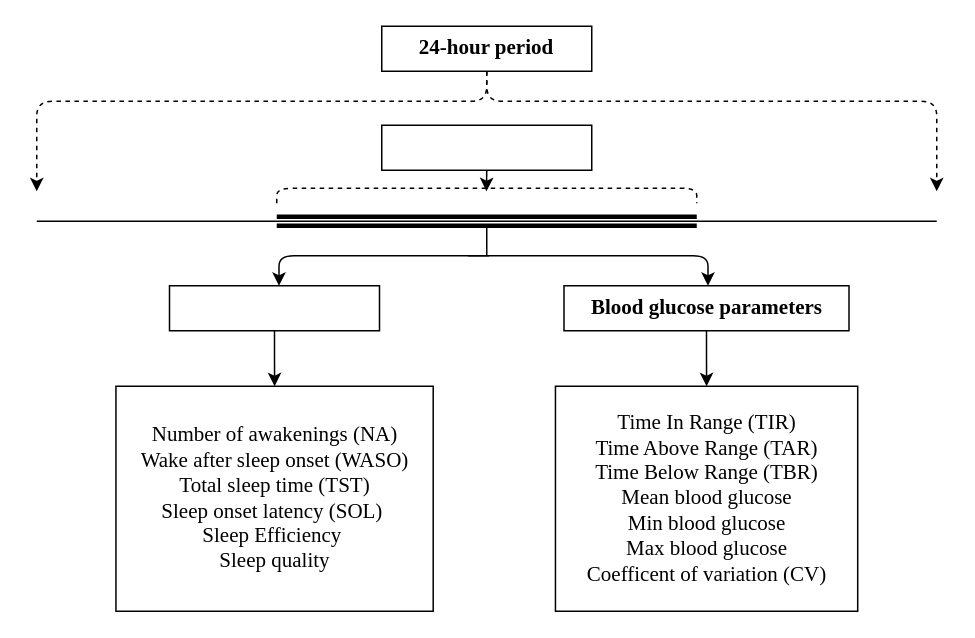
This 975x638 diagram has some shape labels left out. The box of each missing label's shape, as (x1, y1, x2, y2) in pixels:
Sleep parameters: (168, 284, 380, 331)
Time In Bed: (380, 124, 592, 170)
